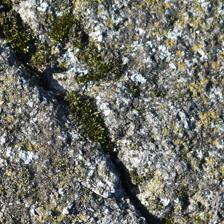Crack: (28, 46, 128, 175)
